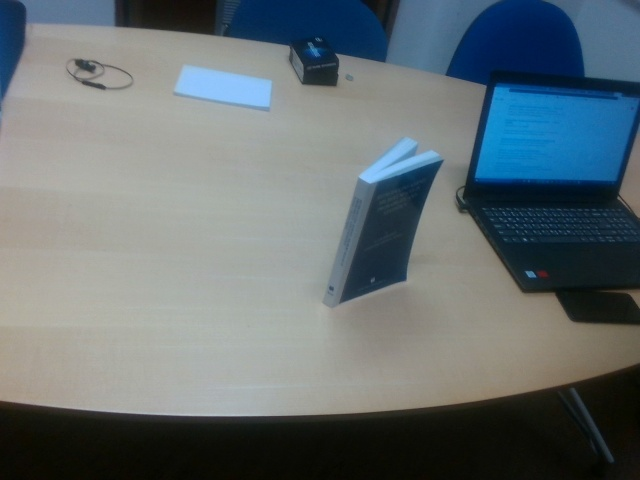book: (320, 139, 443, 310)
